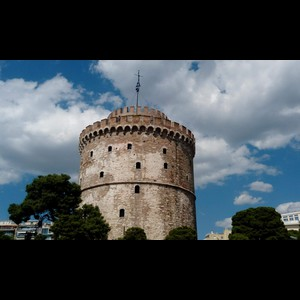White Tower: (76, 66, 198, 240)
